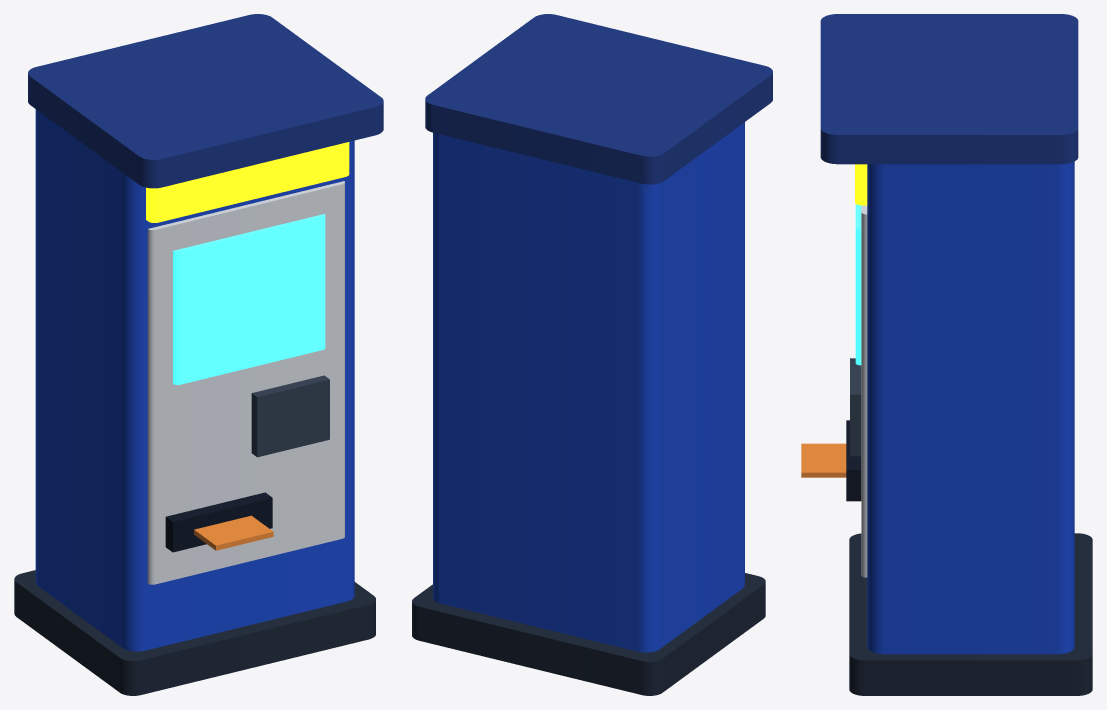
Rendered from ticket_machine.glb.
The picture shows the model from 3 angles, left to right: view 1: azimuth 30°, elevation 25°; view 2: azimuth 150°, elevation 25°; view 3: azimuth 270°, elevation 25°; orthographic projection. The views are drawn at different scales.
Visible parts, largest first — view 1: tower, front_panel, canopy, screen, plinth, header, keypad, disp_slot, ticket_out; view 2: tower, canopy, plinth; view 3: tower, canopy, plinth, front_panel, ticket_out, keypad, screen, disp_slot, header.
Part boxes in pixels (left/top/right/bottom): tower: left=35, top=109, right=354, bottom=651; front_panel: left=147, top=181, right=344, bottom=584; canopy: left=28, top=14, right=383, bottom=188; screen: left=173, top=214, right=325, bottom=384; plinth: left=14, top=570, right=375, bottom=695; header: left=146, top=142, right=349, bottom=222; keypad: left=251, top=375, right=329, bottom=457; disp_slot: left=165, top=492, right=272, bottom=552; ticket_out: left=194, top=515, right=273, bottom=550; tower: left=433, top=122, right=744, bottom=652; canopy: left=425, top=14, right=772, bottom=184; plinth: left=412, top=573, right=765, bottom=695; tower: left=867, top=161, right=1074, bottom=654; canopy: left=820, top=14, right=1078, bottom=164; plinth: left=849, top=533, right=1092, bottom=695; front_panel: left=861, top=205, right=867, bottom=577; ticket_out: left=801, top=443, right=846, bottom=477; keypad: left=850, top=358, right=861, bottom=456; screen: left=855, top=204, right=861, bottom=365; disp_slot: left=846, top=420, right=861, bottom=501; header: left=855, top=164, right=867, bottom=205.
Size of the model in its own units: 0.42 by 0.86 by 0.407.
